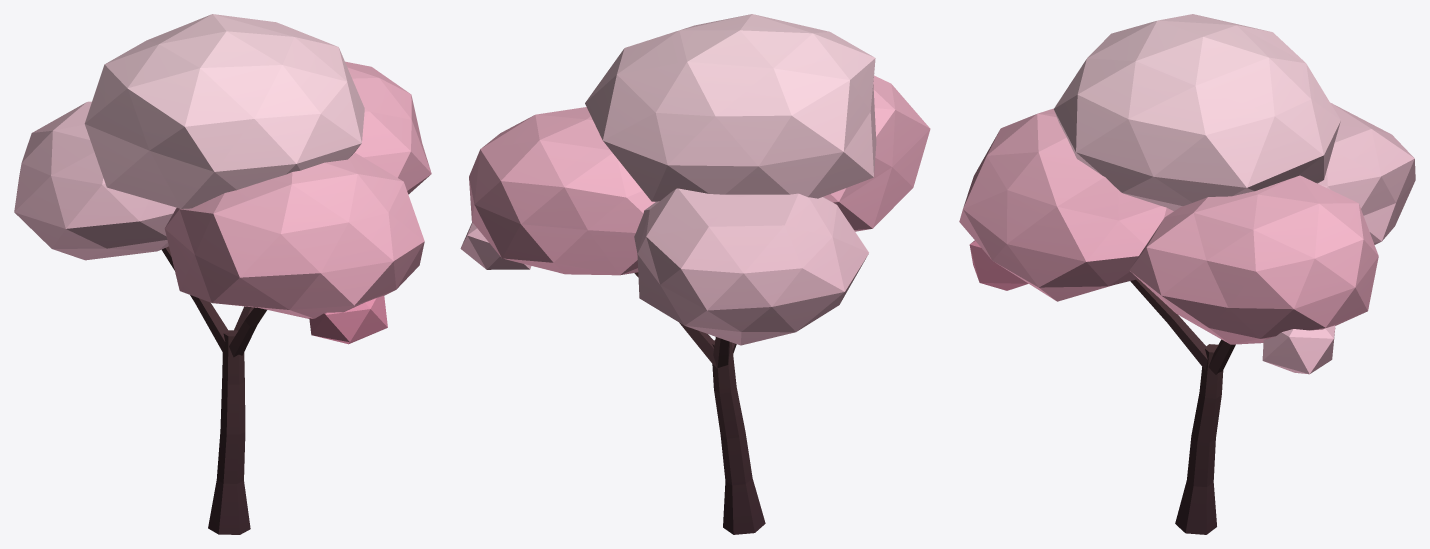
The model's file is sakura_young.glb.
3 views of the same model, side by side, from view 1: azimuth 30°, elevation 25°; view 2: azimuth 150°, elevation 25°; view 3: azimuth 270°, elevation 25° (orthographic).
Visible parts, largest first — view 1: sakura_young; view 2: sakura_young; view 3: sakura_young.
Boxes of the visible parts, x1=… form: sakura_young: x1=14, y1=14, x2=431, y2=534; sakura_young: x1=460, y1=14, x2=930, y2=534; sakura_young: x1=959, y1=14, x2=1415, y2=534.
Size of the model in its own units: 3 by 3.72 by 3.14.
